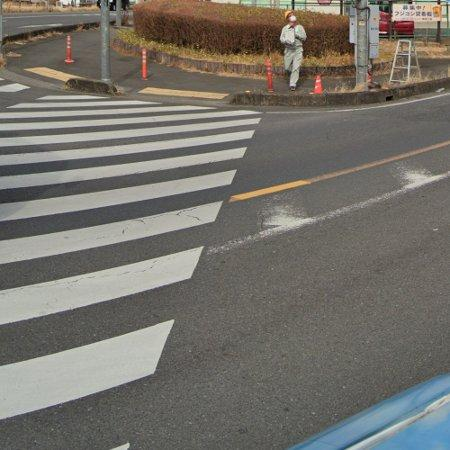crosswalks: (0, 90, 264, 450)
